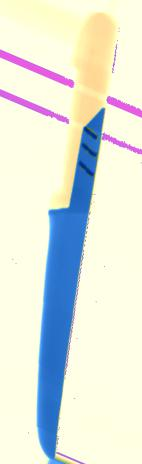Knife: (35, 11, 118, 461)
